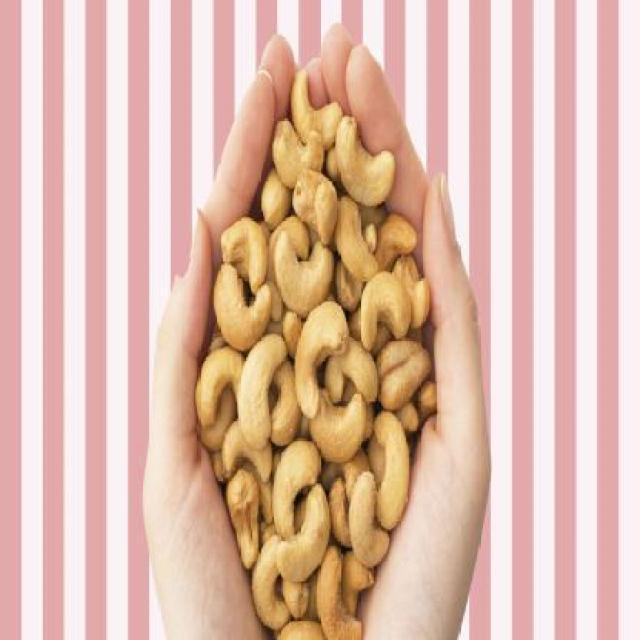Frutta secca: (200, 86, 446, 640)
